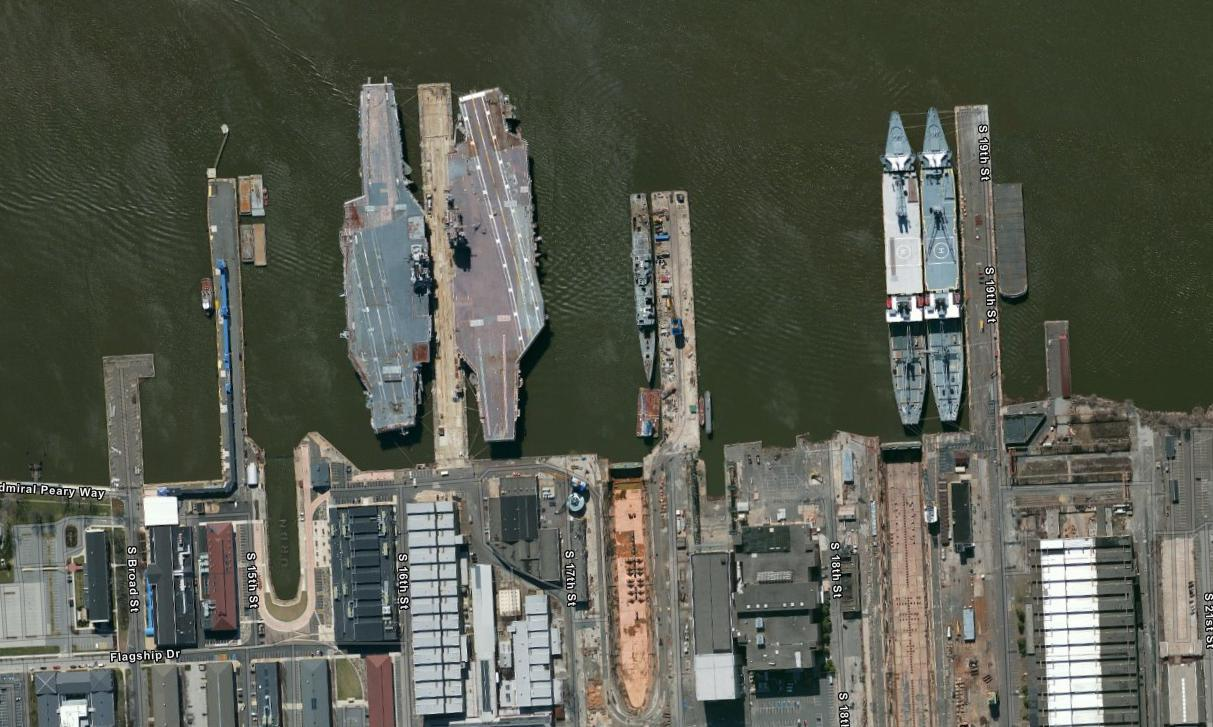carrier: (332, 62, 440, 449), (444, 79, 556, 449)
